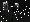person: (13, 5, 21, 16), (5, 4, 12, 14)
